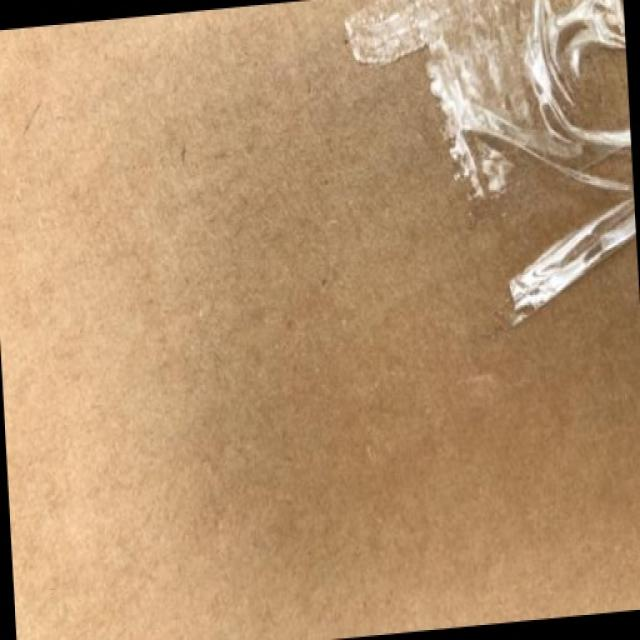carton: (118, 37, 321, 437)
